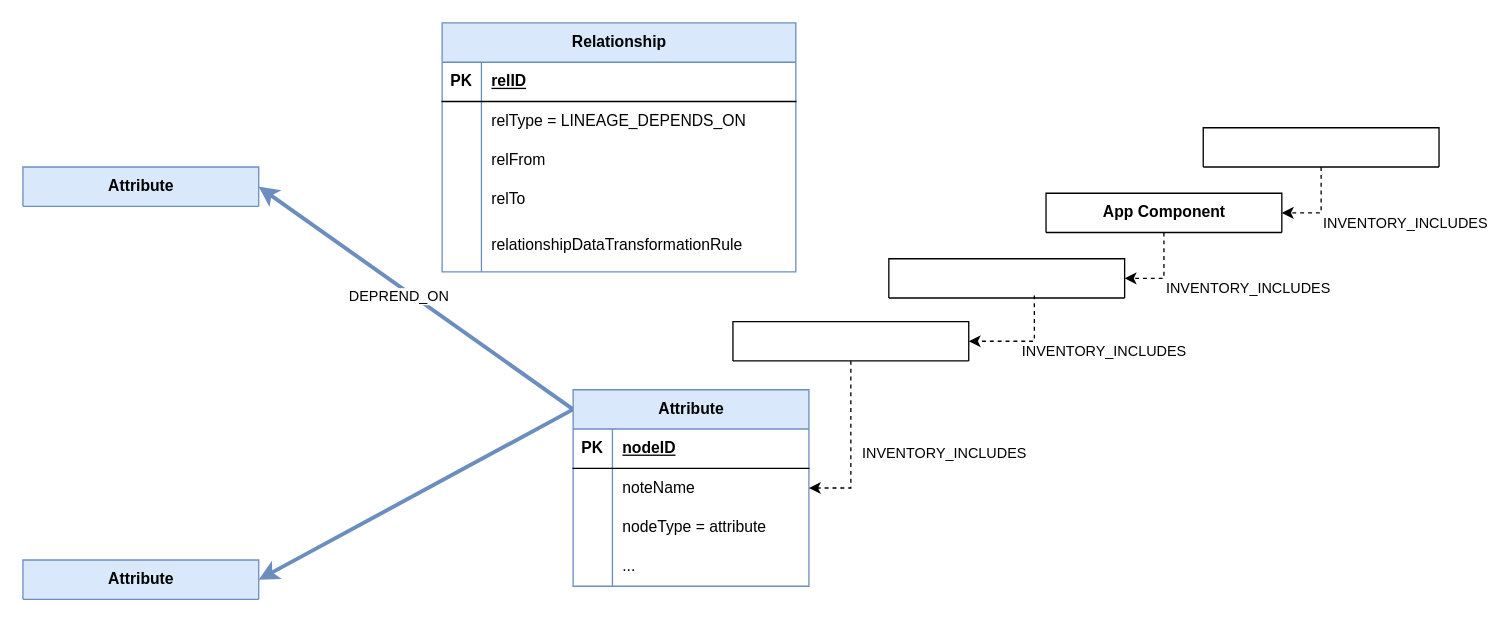
Image size: 1512x622. Some labels were removed from this diagram. The centre of each missing label's shape, as x and y in pixels:
Application / System: point (1320, 146)
Catalog: point (850, 340)
Schema: point (1006, 277)
